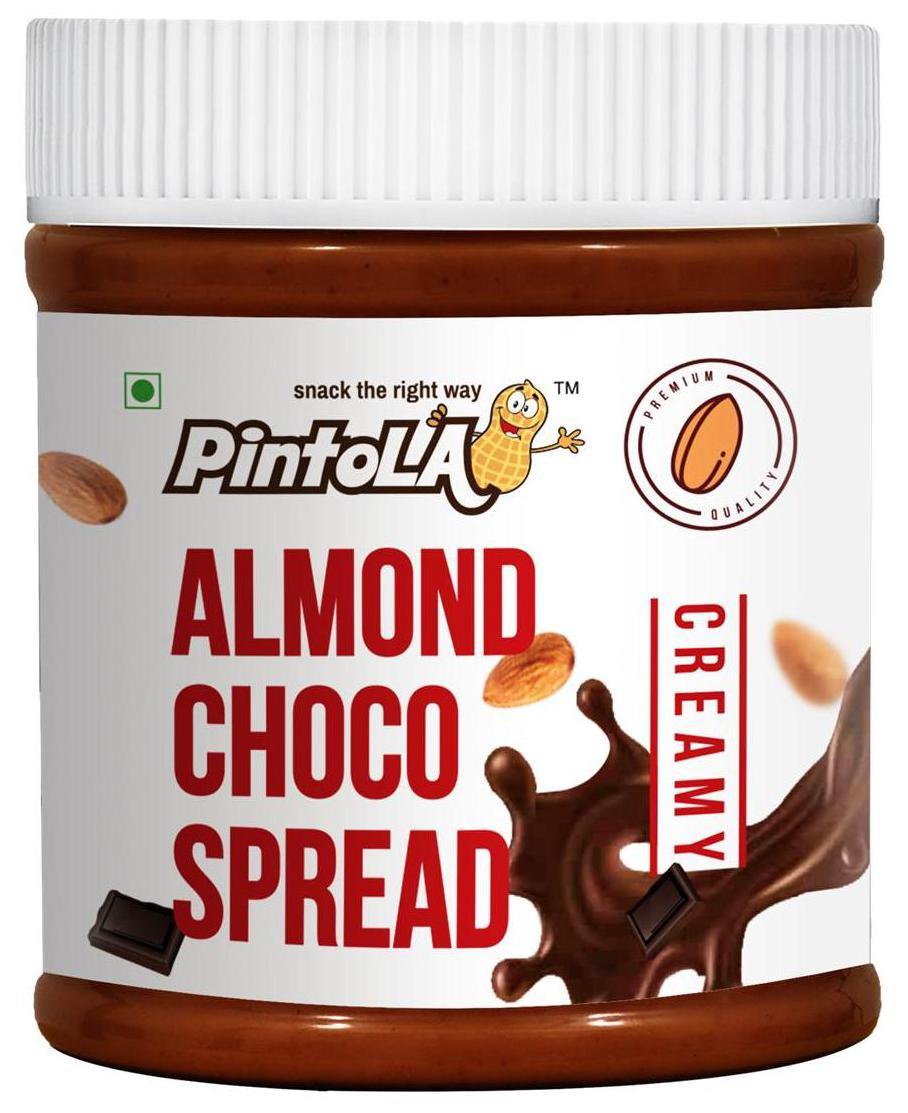JAR: (13, 7, 895, 1097)
